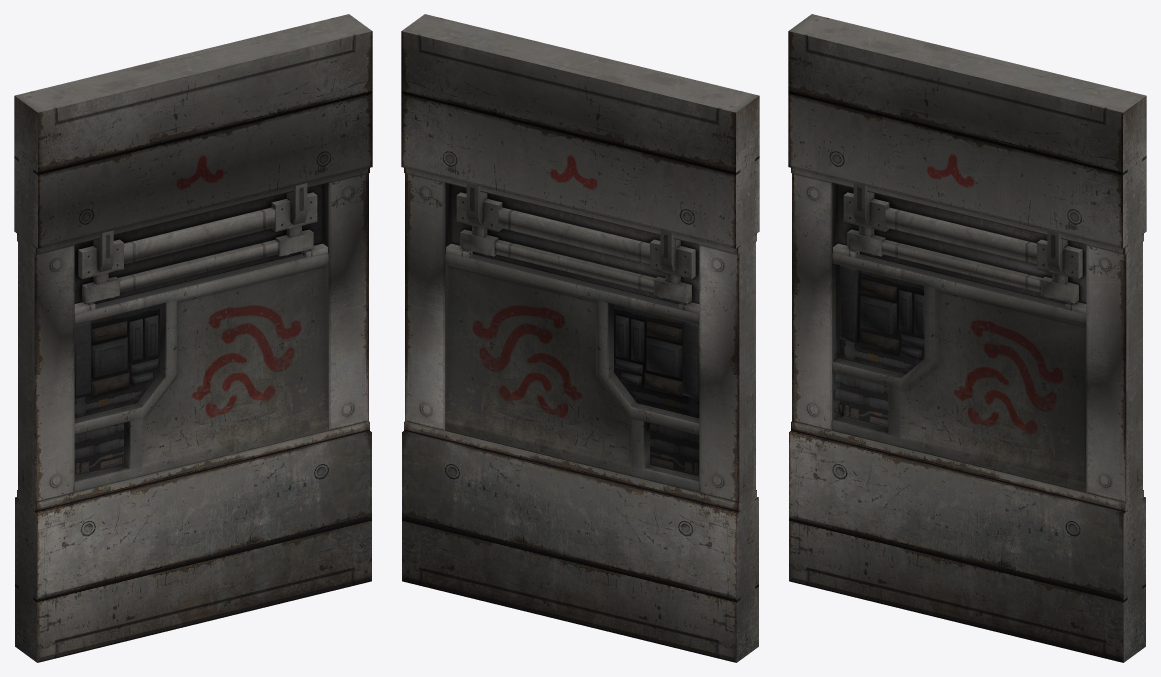
File: slidedoor_flesher_medium_door.DAE
3 renders of one model, left to right at view 1: azimuth 30°, elevation 25°; view 2: azimuth 150°, elevation 25°; view 3: azimuth 330°, elevation 25°, orthographic.
Visible parts, largest first — view 1: slidedoor_flesher_medium_door; view 2: slidedoor_flesher_medium_door; view 3: slidedoor_flesher_medium_door.
Boxes of the visible parts, x1,y1,x2,y2 form: slidedoor_flesher_medium_door: (14,14,372,662); slidedoor_flesher_medium_door: (401,14,759,662); slidedoor_flesher_medium_door: (788,14,1146,662).
Bounding box in the file's own units: 1.74 × 0.2113 × 2.74.
